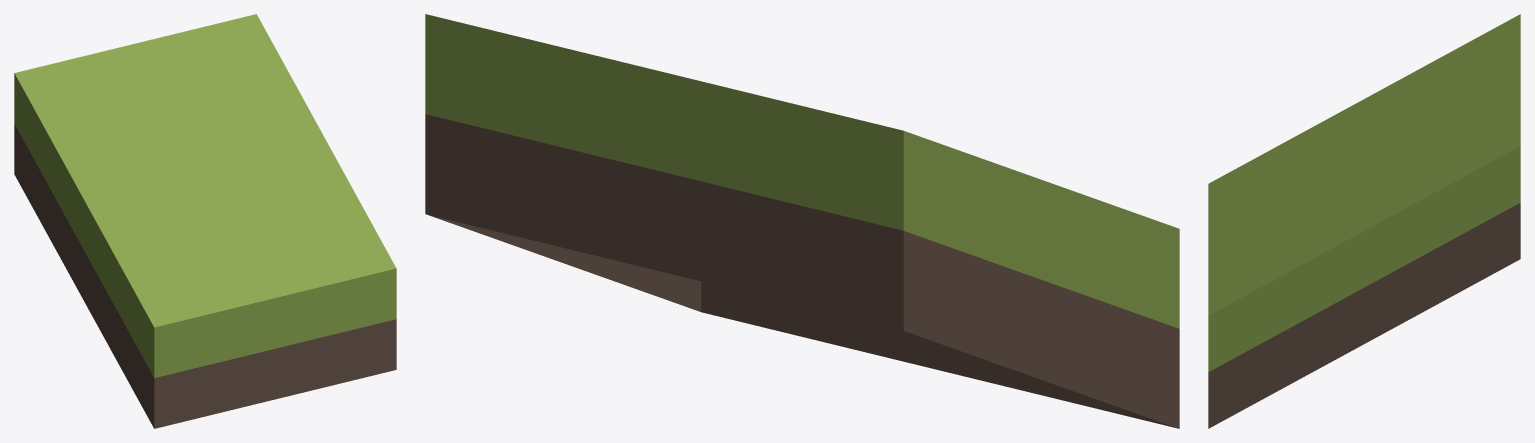
The model's file is grass-tile-hill_01_small.fbx.
The picture shows the model from 3 angles, left to right: view 1: azimuth 30°, elevation 25°; view 2: azimuth 150°, elevation 25°; view 3: azimuth 270°, elevation 25°; orthographic projection. The views are drawn at different scales.
Parts seen in each view (by area): view 1: grass-tile-hill_01_small; view 2: grass-tile-hill_01_small; view 3: grass-tile-hill_01_small.
Part boxes in pixels (x1,y1,x2,y2): grass-tile-hill_01_small: (14,14,396,428); grass-tile-hill_01_small: (425,14,1179,428); grass-tile-hill_01_small: (1208,14,1520,428).
Bounding box in the file's own units: 1000 × 1000 × 1000.
